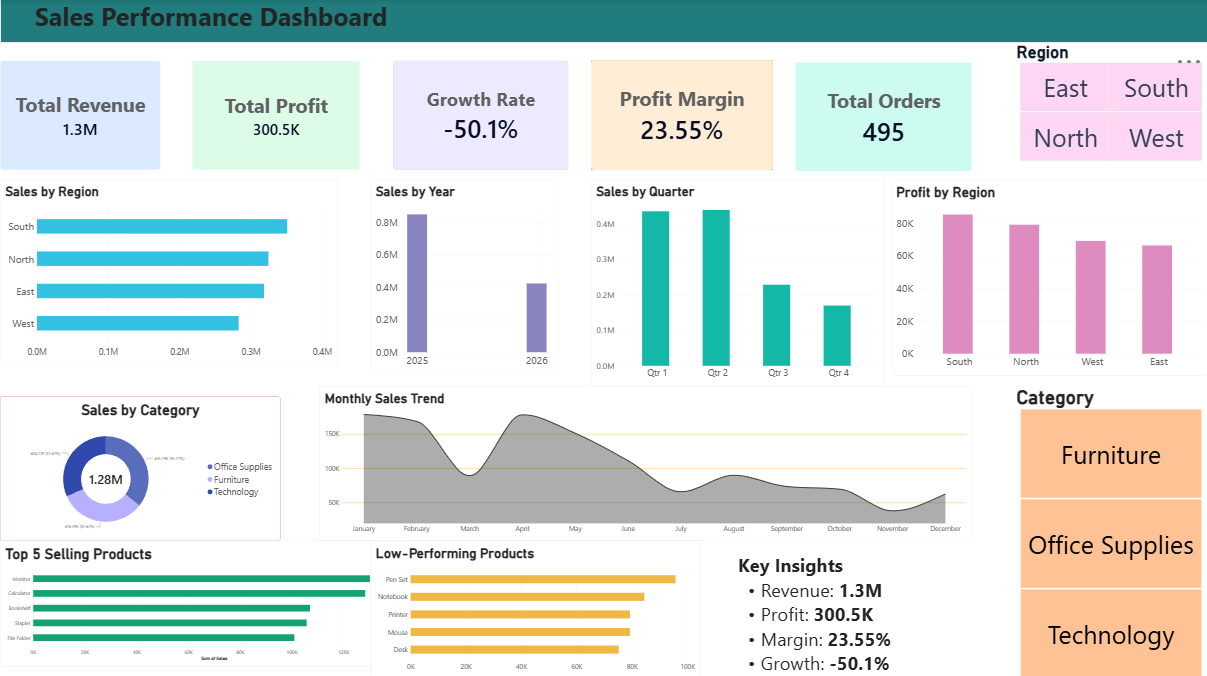

What the dashboard file says about the page in this screenshot:
{"tool":"powerbi","page":{"name":"Page 1","canvas":[3840,2160],"ordinal":0},"visuals":[{"type":"cardVisual","fields":{"Data":["Sum(Sheet1.Sales)"]},"box":[0,195.6,510.6,348.3],"z":0},{"type":"cardVisual","fields":{"Data":["Sum(Sheet1.Profit)"]},"box":[610.8,195.6,534.4,348.3],"z":1000},{"type":"clusteredBarChart","title":"Sales by Region","fields":{"Category":["Sheet1.Region"],"Y":["Sum(Sheet1.Sales)"]},"box":[0,572.6,1073.7,591.7],"z":2000},{"type":"donutChart","title":"Sales by Category","fields":{"Category":["Sheet1.Category"],"Y":["Sum(Sheet1.Sales)"]},"box":[0,1264.5,892.3,458.1],"z":3000},{"type":"areaChart","title":"Monthly Sales Trend","fields":{"Category":["Sheet1.Order Date.Variation.Date Hierarchy.Month"],"Y":["Sum(Sheet1.Sales)"]},"box":[1016.4,1231.1,2075.7,491.5],"z":4000},{"type":"clusteredBarChart","title":"Top 5 Selling Products","fields":{"Category":["Sheet1.Product"],"Y":["Sum(Sheet1.Sales)"]},"box":[0,1722.6,1293.2,400.8],"z":5000},{"type":"clusteredBarChart","title":"Low-Performing Products","fields":{"Category":["Sheet1.Product"],"Y":["Sum(Sheet1.Sales)"]},"box":[1178.6,1722.6,1049.8,439],"z":6000},{"type":"clusteredColumnChart","title":"Sales by Quarter","fields":{"Category":["Sheet1.Order Date.Variation.Date Hierarchy.Quarter"],"Y":["Sum(Sheet1.Sales)"]},"box":[1880.1,572.6,930.5,658.5],"z":7000},{"type":"clusteredColumnChart","title":"Sales by Year","fields":{"Category":["Sheet1.Order Date.Variation.Date Hierarchy.Year","Sheet1.Order Date.Variation.Date Hierarchy.Quarter","Sheet1.Order Date.Variation.Date Hierarchy.Month","Sheet1.Order Date.Variation.Date Hierarchy.Day"],"Y":["Sum(Sheet1.Sales)"]},"box":[1178.6,572.6,596.5,620.3],"z":8000},{"type":"cardVisual","fields":{"Data":["Sheet1.Growth Rate"]},"box":[1250.2,195.6,558.3,348.3],"z":9000},{"type":"clusteredColumnChart","title":"Profit by Region","fields":{"Category":["Sheet1.Region"],"Y":["Sheet1.Total Profit"]},"box":[2834.5,572.6,1006.9,625.1],"z":10000},{"type":"textbox","box":[0,0,3841.3,138.4],"z":11000},{"type":"slicer","fields":{"Values":["Sheet1.Region"]},"box":[3225.8,138.4,615.6,377],"z":12000},{"type":"slicer","fields":{"Values":["Sheet1.Category"]},"box":[3225.8,1231.1,615.6,930.5],"z":13000},{"type":"cardVisual","fields":{"Data":["Sheet1.Profit Margin"]},"box":[1880.1,195.6,577.4,348.3],"z":14000},{"type":"cardVisual","fields":{"Data":["Sheet1.Total Orders"]},"box":[2529.1,200.4,563.1,348.3],"z":15000},{"type":"textbox","box":[2347.7,1760.8,801.7,400.8],"z":15001}]}

Visuals, with their boxes in screenshot pixels (x1, y1, x2, y2), scaled from the page's 3840x2160 canvas onto the 1207x676 screenshot:
cardVisual - Sum(Sheet1.Sales): (left=0, top=61, right=160, bottom=170)
cardVisual - Sum(Sheet1.Profit): (left=192, top=61, right=360, bottom=170)
"Sales by Region" clusteredBarChart: (left=0, top=179, right=337, bottom=364)
"Sales by Category" donutChart: (left=0, top=396, right=280, bottom=539)
"Monthly Sales Trend" areaChart: (left=319, top=385, right=972, bottom=539)
"Top 5 Selling Products" clusteredBarChart: (left=0, top=539, right=406, bottom=665)
"Low-Performing Products" clusteredBarChart: (left=370, top=539, right=700, bottom=675)
"Sales by Quarter" clusteredColumnChart: (left=591, top=179, right=883, bottom=385)
"Sales by Year" clusteredColumnChart: (left=370, top=179, right=558, bottom=373)
cardVisual - Sheet1.Growth Rate: (left=393, top=61, right=568, bottom=170)
"Profit by Region" clusteredColumnChart: (left=891, top=179, right=1206, bottom=375)
textbox: (left=0, top=0, right=1206, bottom=43)
slicer - Sheet1.Region: (left=1014, top=43, right=1206, bottom=161)
slicer - Sheet1.Category: (left=1014, top=385, right=1206, bottom=675)
cardVisual - Sheet1.Profit Margin: (left=591, top=61, right=772, bottom=170)
cardVisual - Sheet1.Total Orders: (left=795, top=63, right=972, bottom=172)
textbox: (left=738, top=551, right=990, bottom=675)
